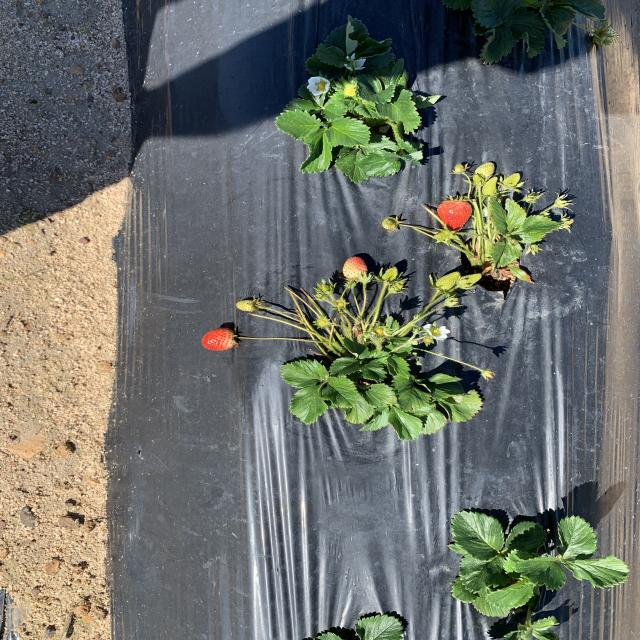unripe: (438, 199, 472, 234), (200, 327, 240, 350)
